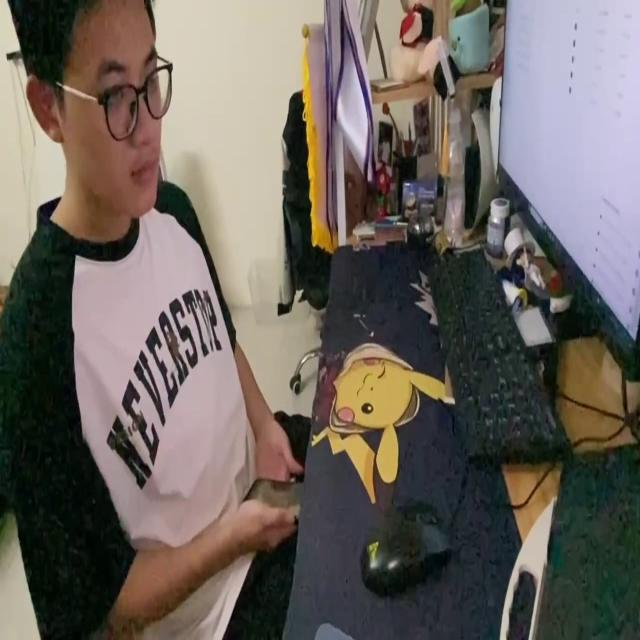laptop: (494, 5, 640, 385)
phone: (234, 472, 304, 521)
student: (1, 0, 305, 640)
